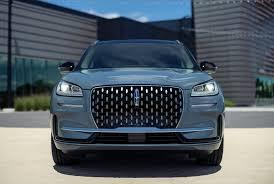lincoln: (131, 87, 144, 109)
